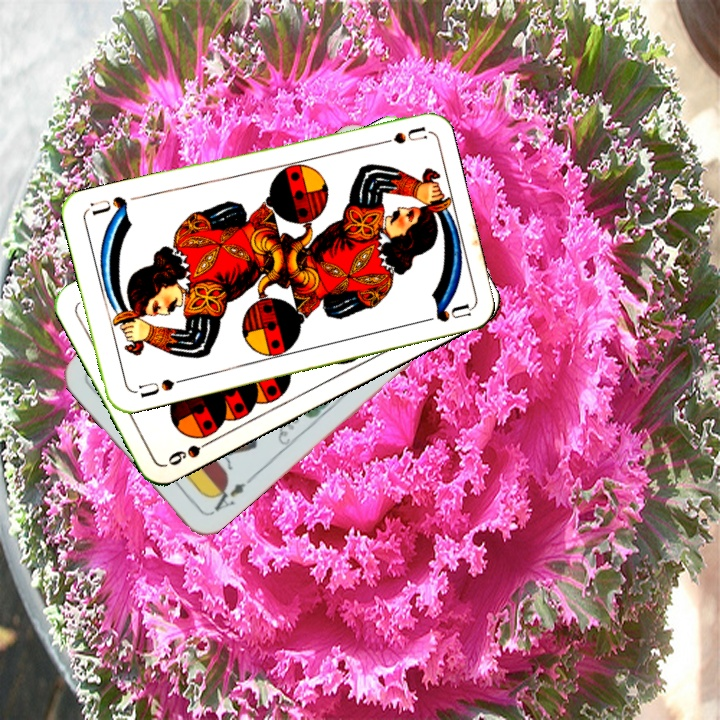EA: (206, 473, 255, 517)
S9: (164, 434, 218, 468)
SU: (368, 123, 428, 149), (135, 374, 188, 401)
